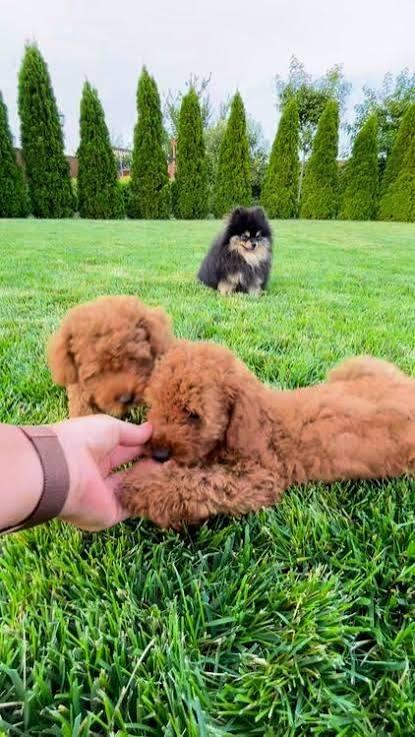adult_dog: (196, 204, 275, 297)
puppy-dog: (109, 341, 415, 531), (44, 294, 183, 419)
